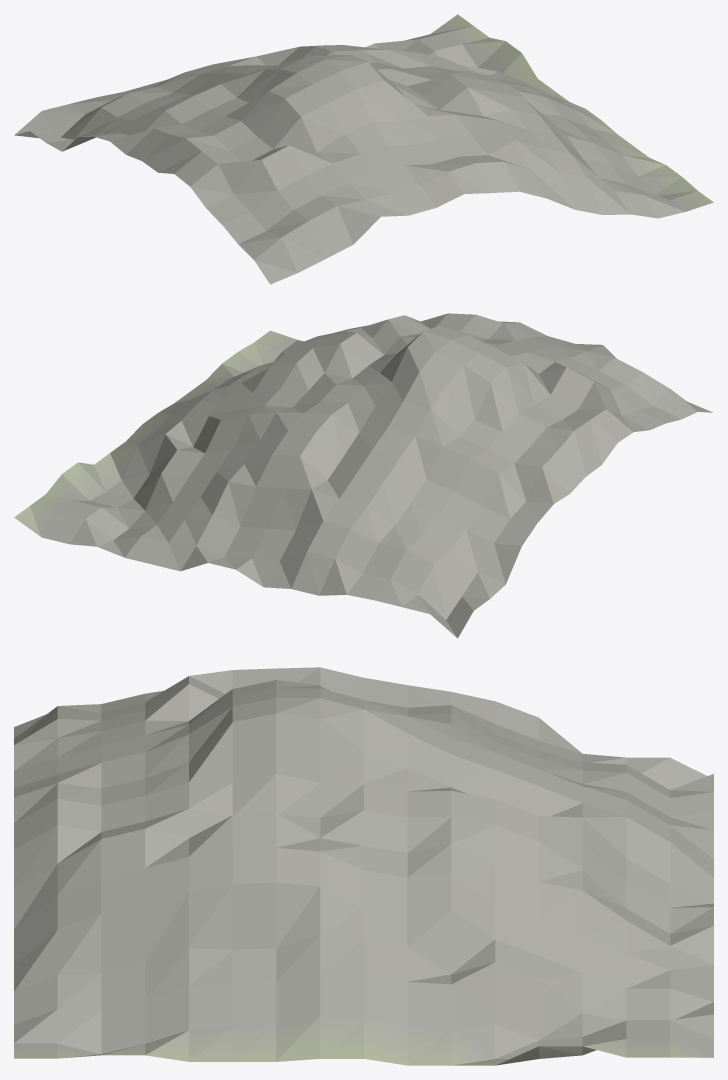
The picture shows the model from 3 angles, top to bottom: view 1: azimuth 30°, elevation 25°; view 2: azimuth 150°, elevation 25°; view 3: azimuth 270°, elevation 25°; orthographic projection. The views are drawn at different scales.
Bounding box in the file's own units: 32 × 9.98 × 32.
